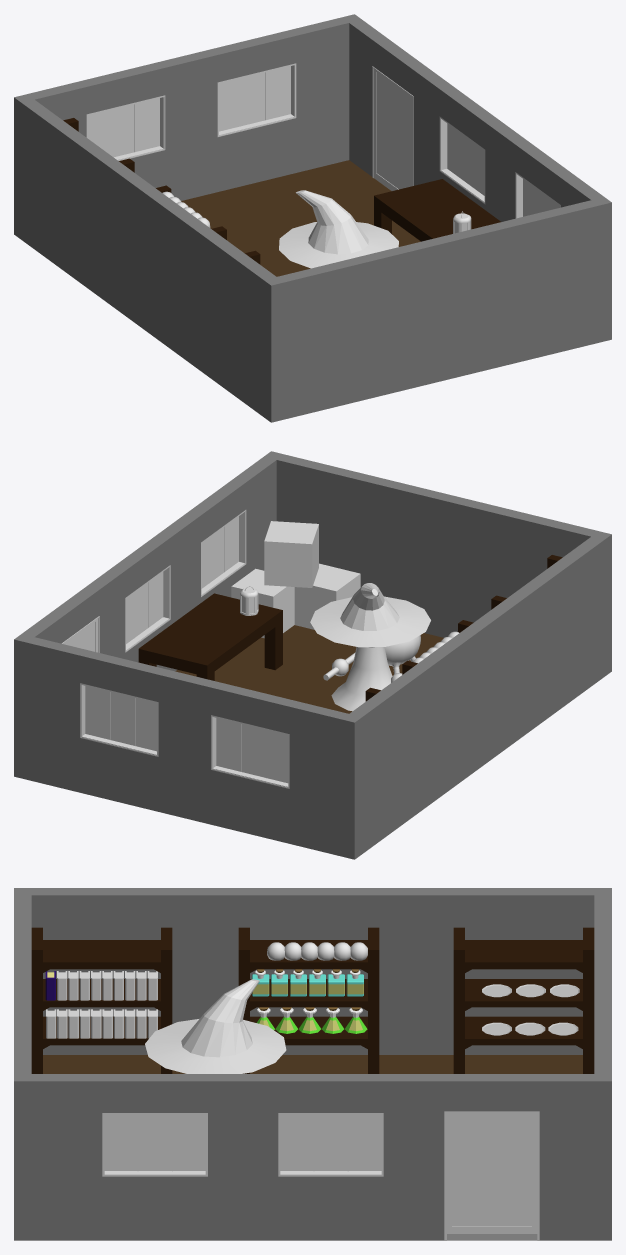
The model's file is ROOM 2.fbx.
3 views of the same model, one above another, from view 1: azimuth 30°, elevation 25°; view 2: azimuth 150°, elevation 25°; view 3: azimuth 270°, elevation 25° (orthographic). The views are drawn at different scales.
Parts seen in each view (by area): view 1: WALL 2, WALL 3, Wall, Wall 4, floor, Witch Hat, table, PivotDoor001, FixedWindow003, FixedWindow004, FixedWindow002, FixedWindow001; view 2: WALL 3, Wall, WALL 2, Wall 4, table, floor, Witch Hat, FixedWindow003, FixedWindow004, CRATE002, FixedWindow002, FixedWindow001 (+5 smaller); view 3: Wall 4, WALL 3, Shelf, PivotDoor001, Shelf002, Shelf001, floor, Witch Hat, FixedWindow002, FixedWindow001, WALL 2, Wall.
Part boxes in pixels (x1,y1,x2,y2): WALL 2: [277, 200, 598, 419]; WALL 3: [14, 94, 284, 422]; Wall: [27, 17, 349, 200]; Wall 4: [342, 14, 611, 342]; floor: [181, 160, 420, 276]; Witch Hat: [279, 190, 398, 268]; table: [374, 179, 500, 241]; PivotDoor001: [372, 66, 413, 190]; FixedWindow003: [217, 63, 296, 136]; FixedWindow004: [86, 95, 165, 160]; FixedWindow002: [439, 116, 485, 204]; FixedWindow001: [515, 172, 560, 218]; WALL 3: [341, 531, 611, 859]; Wall: [27, 637, 348, 856]; WALL 2: [276, 454, 598, 637]; Wall 4: [14, 451, 283, 779]; table: [138, 593, 282, 680]; floor: [175, 625, 443, 713]; Witch Hat: [310, 583, 430, 647]; FixedWindow003: [80, 683, 158, 756]; FixedWindow004: [211, 715, 289, 788]; CRATE002: [264, 521, 318, 587]; FixedWindow002: [125, 565, 170, 652]; FixedWindow001: [201, 510, 246, 596]; Wall 4: [14, 1074, 611, 1240]; WALL 3: [14, 888, 611, 1054]; Shelf: [453, 927, 594, 1073]; PivotDoor001: [444, 1111, 539, 1240]; Shelf002: [31, 927, 172, 1073]; Shelf001: [238, 927, 379, 1073]; floor: [43, 1055, 582, 1073]; Witch Hat: [145, 979, 286, 1073]; FixedWindow002: [278, 1113, 383, 1176]; FixedWindow001: [102, 1113, 207, 1176]; WALL 2: [14, 895, 31, 1073]; Wall: [594, 895, 611, 1073].
Bounding box in the file's own units: 651 × 250 × 850.
